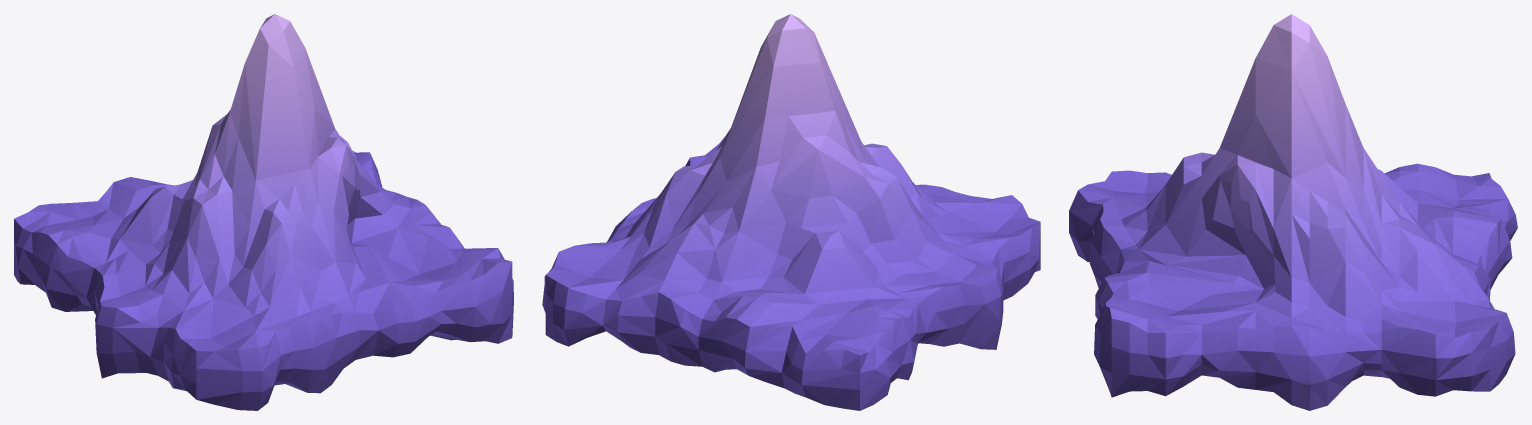
File: Night_Mountain_001.FBX
3 views of the same model, side by side, from view 1: azimuth 30°, elevation 25°; view 2: azimuth 150°, elevation 25°; view 3: azimuth 270°, elevation 25° (orthographic). The views are drawn at different scales.
Visible parts, largest first — view 1: Night_Mountain_001; view 2: Night_Mountain_001; view 3: Night_Mountain_001.
Boxes of the visible parts, x1,y1,x2,y2 form: Night_Mountain_001: [14, 14, 513, 410]; Night_Mountain_001: [542, 14, 1040, 410]; Night_Mountain_001: [1069, 14, 1517, 410].
Size of the model in its own units: 5396 by 4311 by 5506.
Materials: 1 (1 with a texture image).
